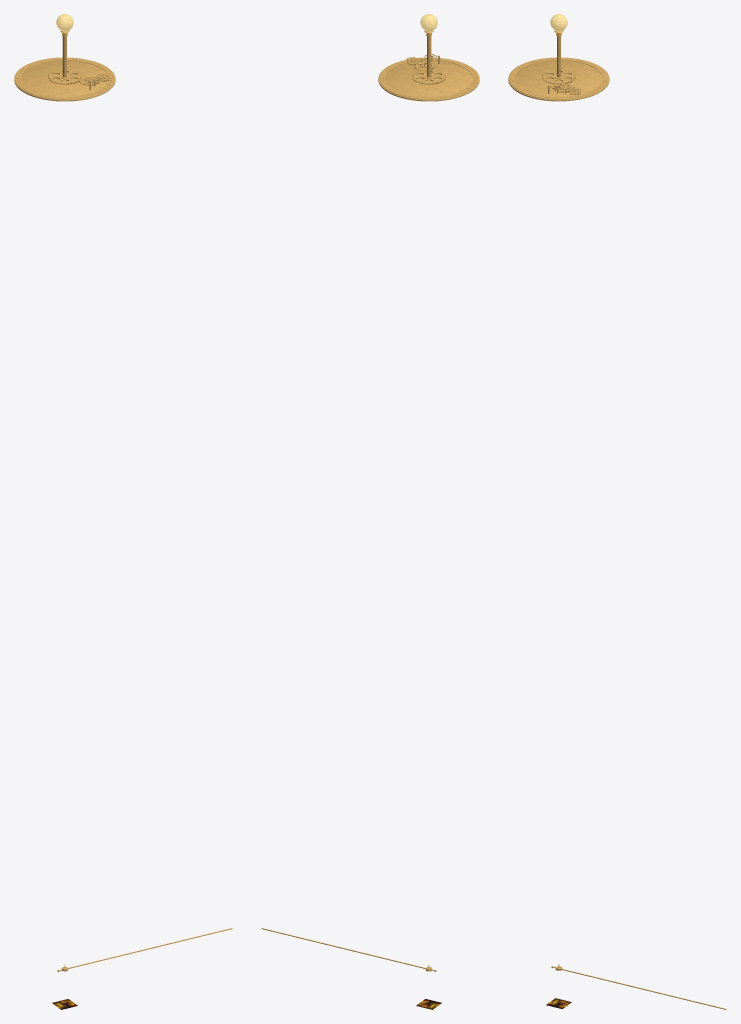
Rendered from orrery-machine-hd.glb.
3 views of the same model, side by side, from view 1: azimuth 30°, elevation 25°; view 2: azimuth 150°, elevation 25°; view 3: azimuth 330°, elevation 25° (orthographic).
Parts seen in each view (by area): view 1: base-plate, zodiac-ring; view 2: base-plate, zodiac-ring; view 3: base-plate, zodiac-ring.
Part boxes in pixels (x1,y1,x2,y2): base-plate: (14,57,115,101); zodiac-ring: (15,57,114,99); base-plate: (378,57,479,101); zodiac-ring: (379,57,478,99); base-plate: (508,57,609,101); zodiac-ring: (509,57,608,99).
Bounding box in the file's own units: 1.26 × 5.64 × 0.524.
Materials: 4 (4 with a texture image).
